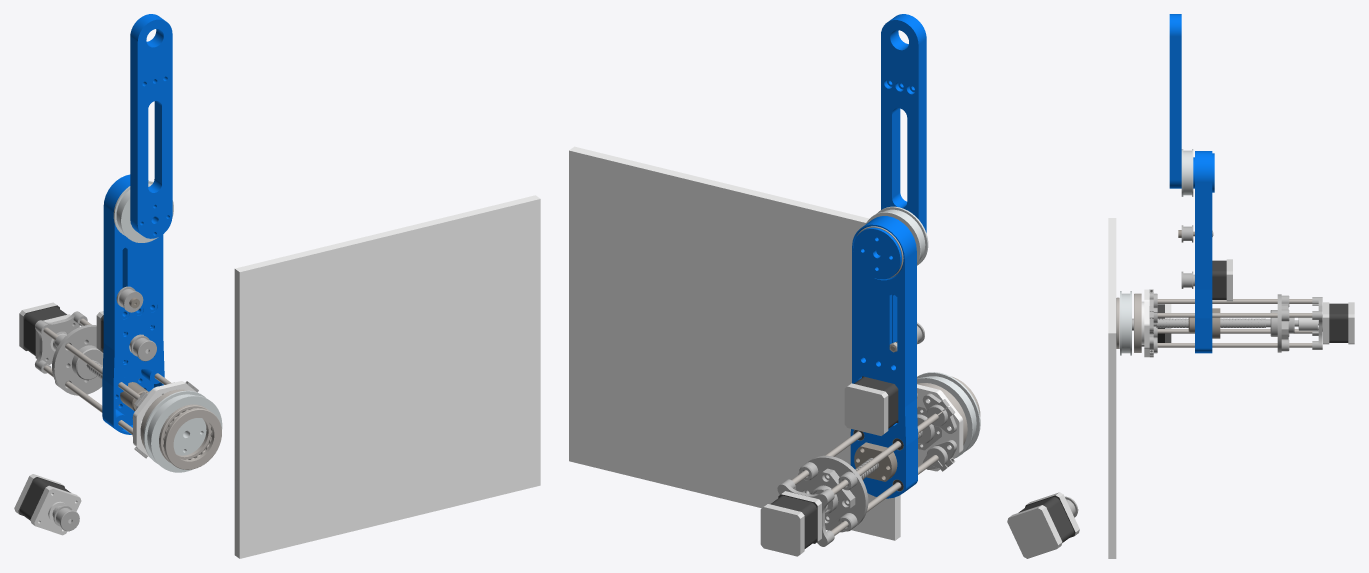
File: 机械臂.fbx
3 views of the same model, side by side, from view 1: azimuth 30°, elevation 25°; view 2: azimuth 150°, elevation 25°; view 3: azimuth 270°, elevation 25° (orthographic). The views are drawn at different scales.
Visible parts, largest first — view 1: stitch_result_stitch all (×13); view 2: stitch_result_stitch all (×19); view 3: stitch_result_stitch all (×21).
Boxes of the visible parts, bbox=[...] form: stitch_result_stitch all (×13): bbox=[14, 14, 540, 558]; stitch_result_stitch all (×19): bbox=[569, 14, 1079, 558]; stitch_result_stitch all (×21): bbox=[1108, 14, 1354, 558].
Bounding box in the file's own units: 55.93 × 57.31 × 31.15.
